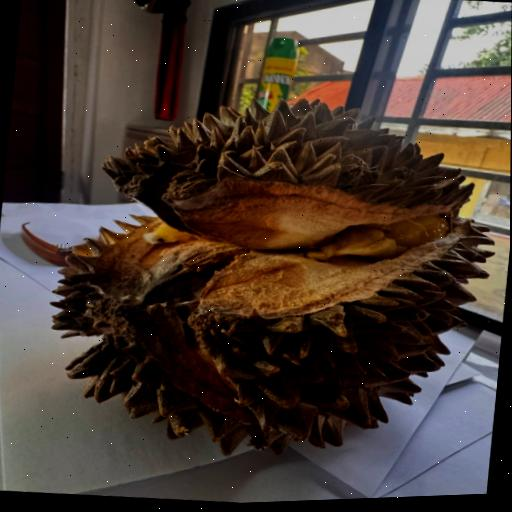rot: (0, 56, 511, 499)
